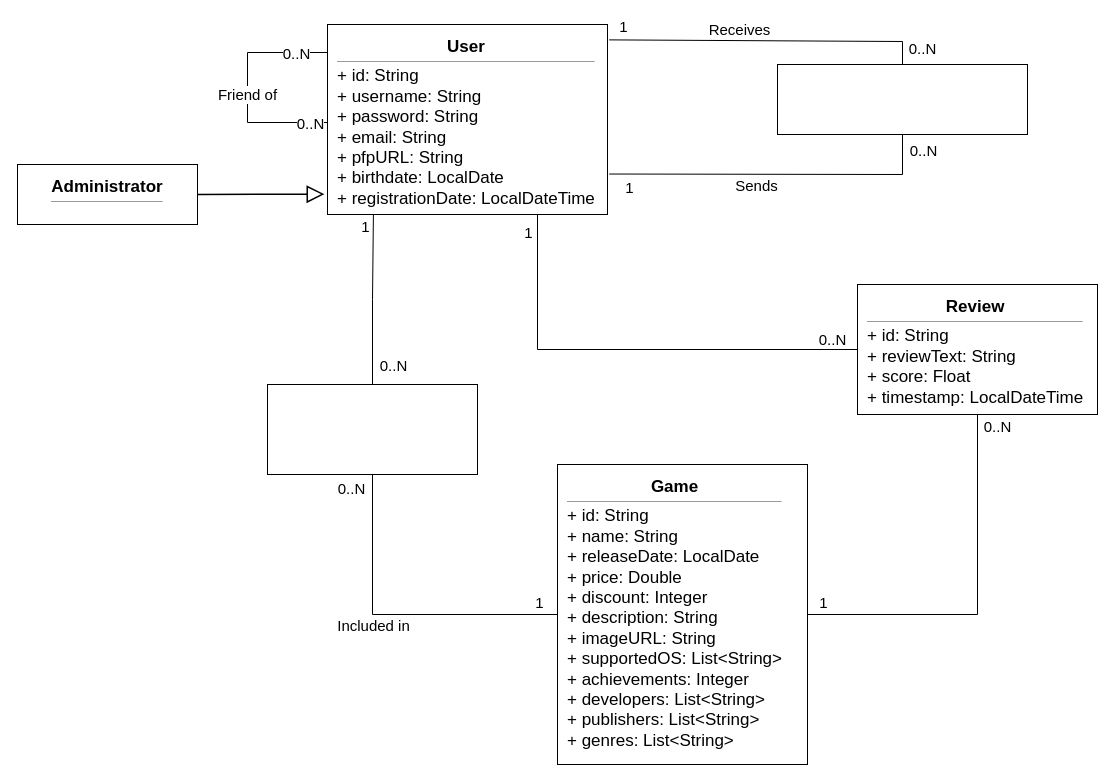
The diagram is 1115 pixels wide and 783 high, and some of its shapes have lost their labels. The shapes that lost their labels are listed below. From the top down, each one's box as (x1, y1, x2, y2) in pixels, then its label:
(776, 64, 1028, 134): Friend Request + timestamp: LocalDateTime
(266, 384, 478, 474): Library Entry + hoursPlayed: Double + achievements: Integer
